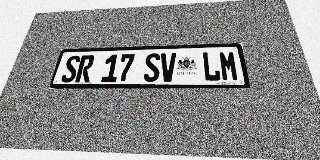1: (101, 54, 120, 82)
7: (117, 54, 135, 82)
L: (202, 51, 221, 81)
M: (218, 51, 240, 81)
R: (75, 55, 95, 82)
S: (60, 55, 81, 83), (143, 53, 160, 82)
V: (160, 53, 176, 82)
